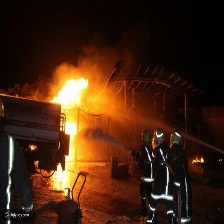fire: (55, 73, 89, 138)
